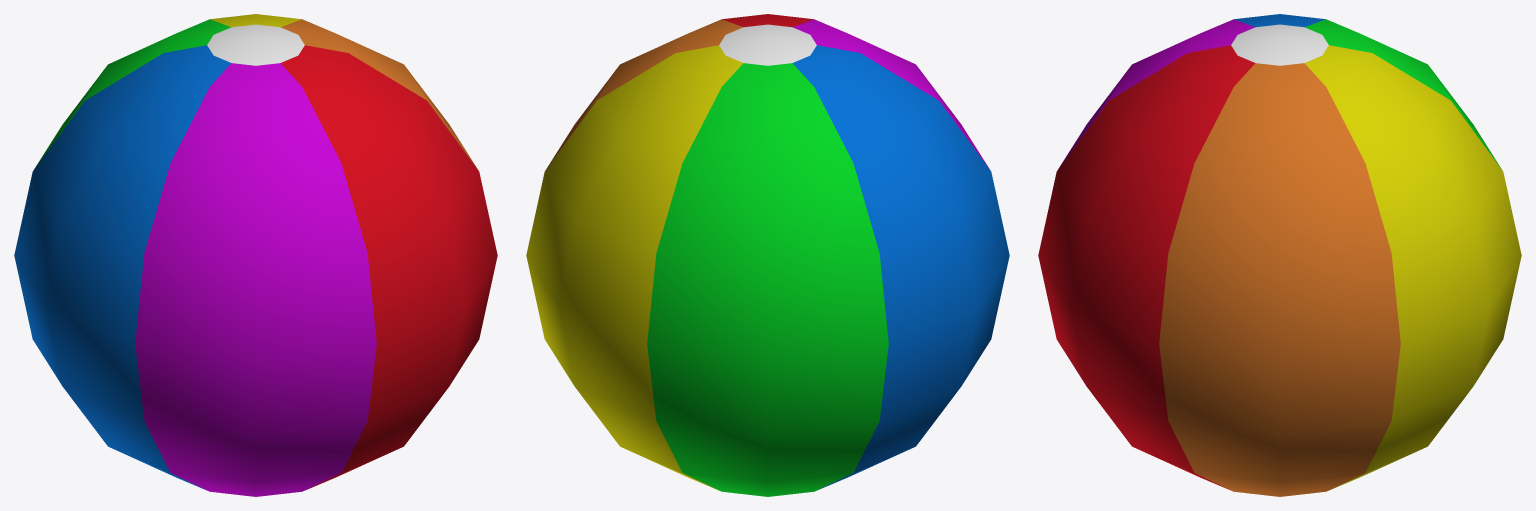
The model's file is BeachBall_Smooth_6.fbx.
3 renders of one model, left to right at view 1: azimuth 30°, elevation 25°; view 2: azimuth 150°, elevation 25°; view 3: azimuth 270°, elevation 25°, orthographic.
Parts seen in each view (by area): view 1: Ball; view 2: Ball; view 3: Ball.
Part boxes in pixels (<box>): Ball: <box>14,14,497,496</box>; Ball: <box>526,14,1009,496</box>; Ball: <box>1038,14,1521,496</box>.
Size of the model in its own units: 43.2 by 43.2 by 43.2.
